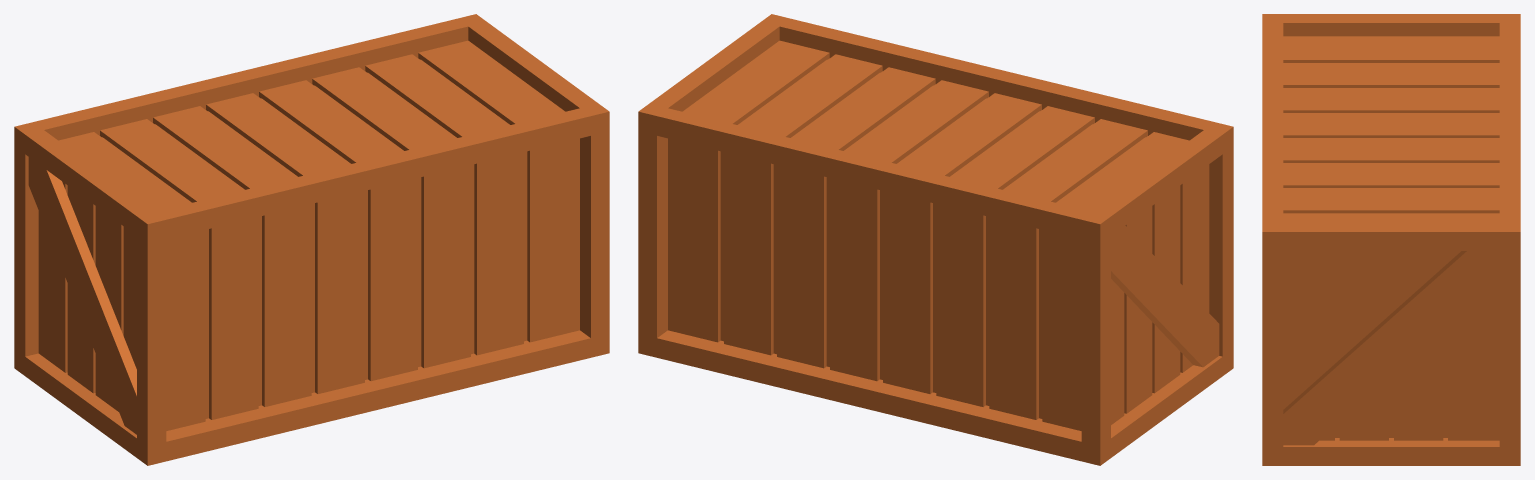
File: WoodCrate_02.fbx
3 renders of one model, left to right at view 1: azimuth 30°, elevation 25°; view 2: azimuth 150°, elevation 25°; view 3: azimuth 270°, elevation 25°, orthographic. The views are drawn at different scales.
Visible parts, largest first — view 1: WoodCrate_02; view 2: WoodCrate_02; view 3: WoodCrate_02.
Part boxes in pixels (x1,y1,x2,y2): WoodCrate_02: (14,14,609,465); WoodCrate_02: (638,14,1233,465); WoodCrate_02: (1262,14,1520,465).
Bounding box in the file's own units: 200 × 100 × 100.
